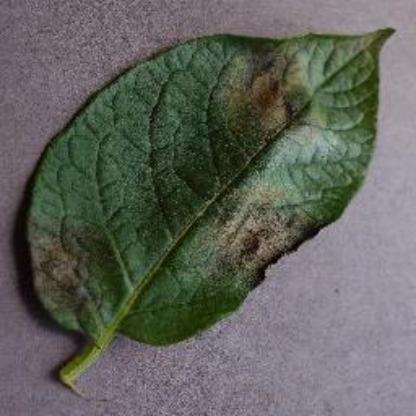Late-Blight: (19, 25, 405, 389)
